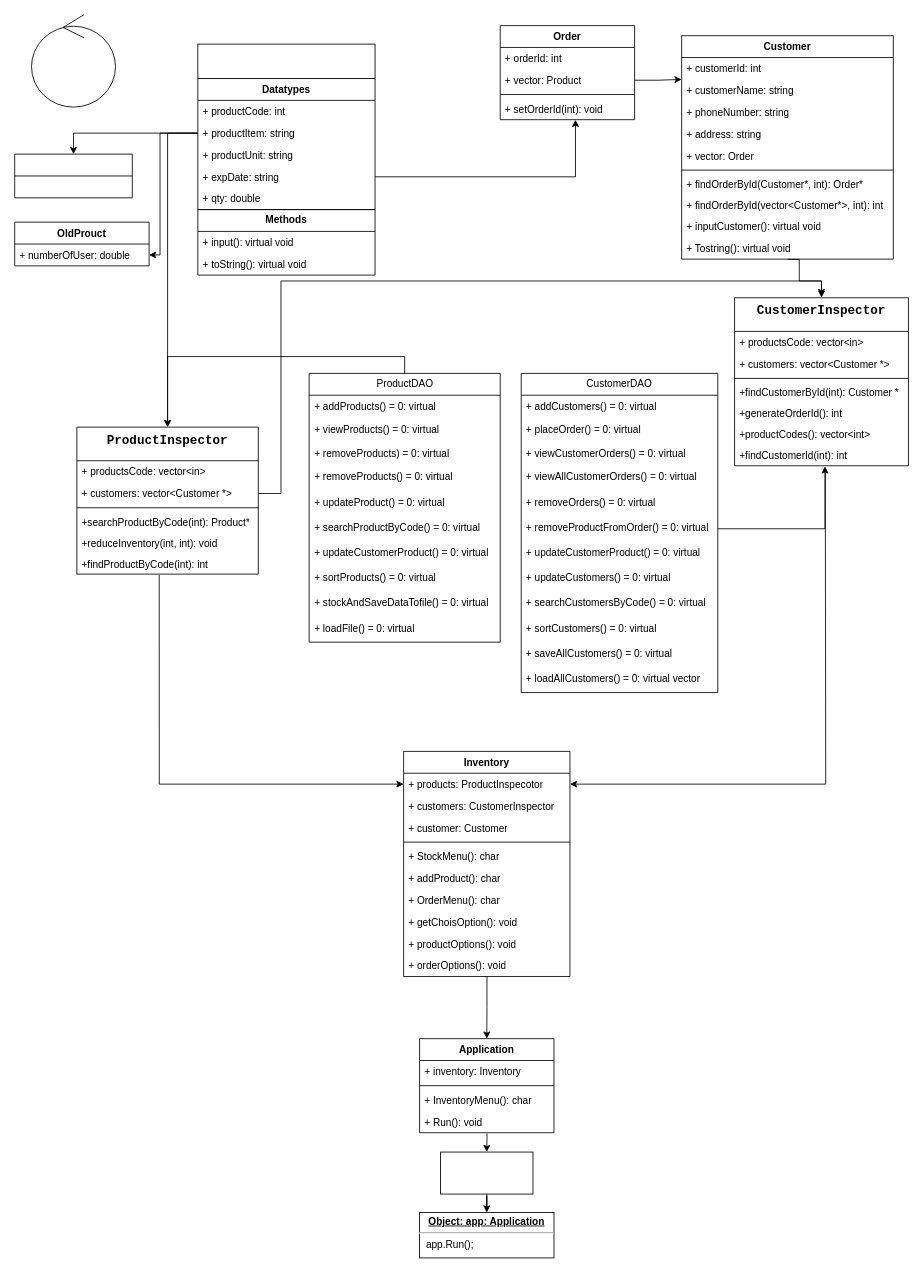
Image size: 923x1273. Some labels were removed from this diagram. The shapes that lost their labels are listed below. From the top down, each one's centre as x and y in pixels, then its label:
At point (73, 60): "Inventory System".
At point (286, 61): "Production".
At point (73, 175): "NewProduct".
At point (486, 1172): "Object".
